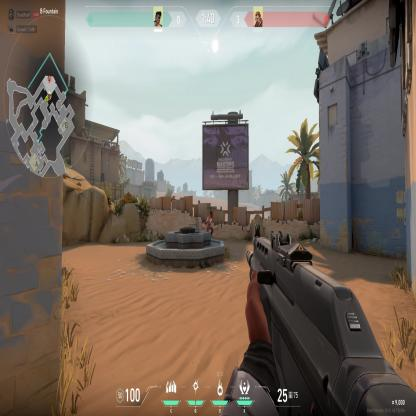enemy: (206, 214, 213, 238)
